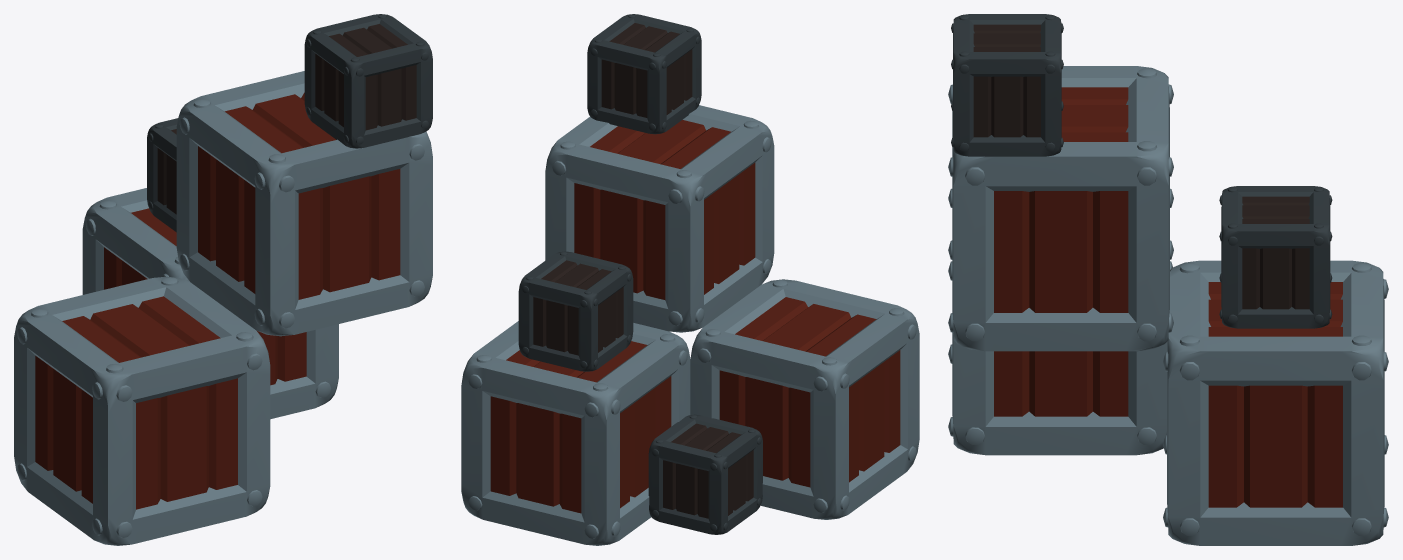
File: DecoratedCrates2MODEL.fbx
3 views of the same model, side by side, from view 1: azimuth 30°, elevation 25°; view 2: azimuth 150°, elevation 25°; view 3: azimuth 270°, elevation 25° (orthographic). The views are drawn at different scales.
Visible parts, largest first — view 1: crate__2_, crate__1_, crateDark__2_, crate__3_, crateDark__1_; view 2: crate__2_, crate__1_, crate__3_, crateDark__1_, crateDark__2_, crateDark; view 3: crate__3_, crate__1_, crate__2_, crateDark__1_, crateDark__2_.
Part boxes in pixels (<box>): crate__2_: <box>14,276,270,545</box>; crate__1_: <box>176,71,432,336</box>; crateDark__2_: <box>304,14,432,148</box>; crate__3_: <box>82,188,338,419</box>; crateDark__1_: <box>147,118,178,232</box>; crate__2_: <box>690,279,919,519</box>; crate__1_: <box>545,105,774,332</box>; crate__3_: <box>461,321,690,545</box>; crateDark__1_: <box>518,251,633,371</box>; crateDark__2_: <box>587,14,701,134</box>; crateDark: <box>648,414,762,534</box>; crate__3_: <box>1163,260,1388,545</box>; crate__1_: <box>948,66,1173,351</box>; crate__2_: <box>948,188,1173,455</box>; crateDark__1_: <box>1219,186,1332,328</box>; crateDark__2_: <box>951,14,1063,156</box>.
Size of the model in its own units: 410 by 508 by 410.
